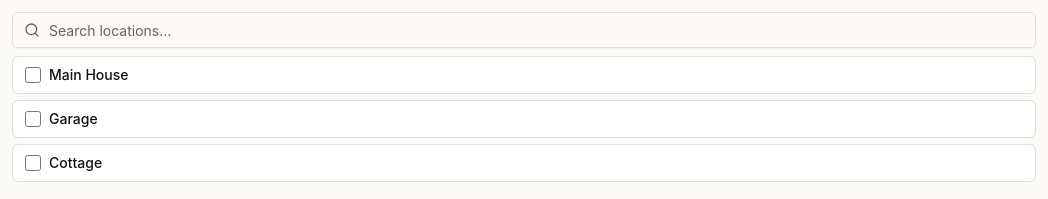
Test: <SelectedItemsPicker /> › filters the list by name as the user types (case-insensitive)
Type "gar" into the search field with test id "selected-items-picker-search" at (524, 30), box [12,12,1036,48]
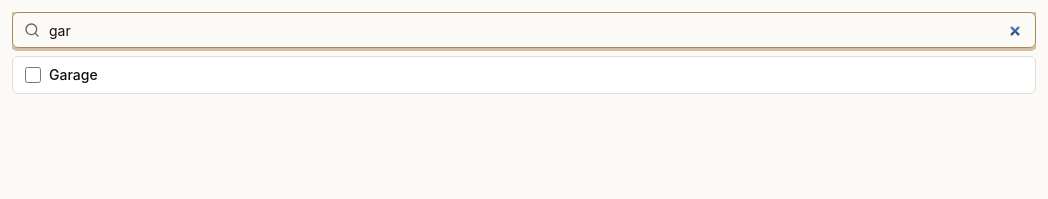
expect the text "Garage" is shown: met, box [12,56,1036,94]
expect the label with test id "selected-items-picker-row-loc-1" is gone: met
expect the label with test id "selected-items-picker-row-loc-3" is gone: met
